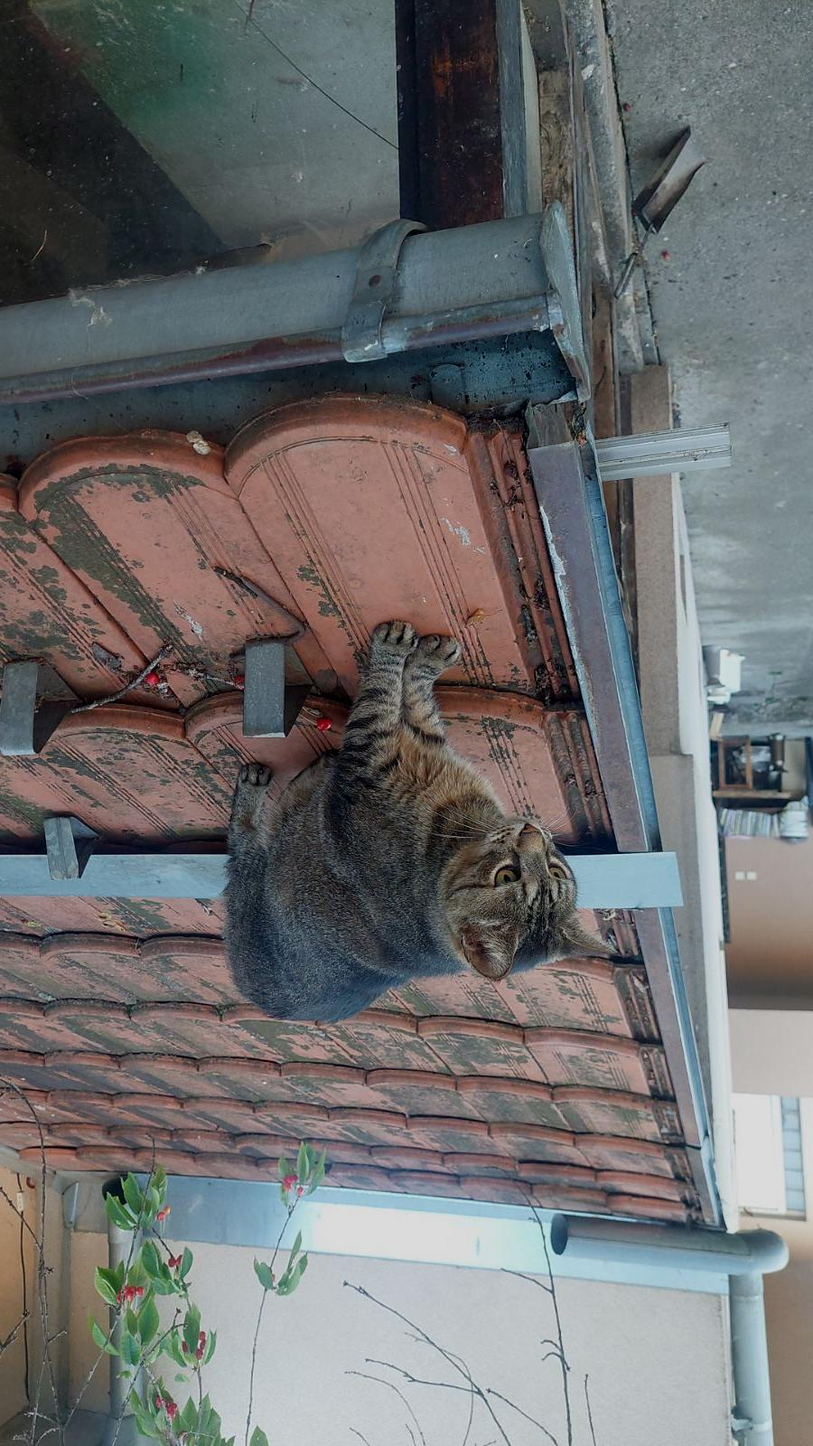macka: (222, 617, 613, 1023)
